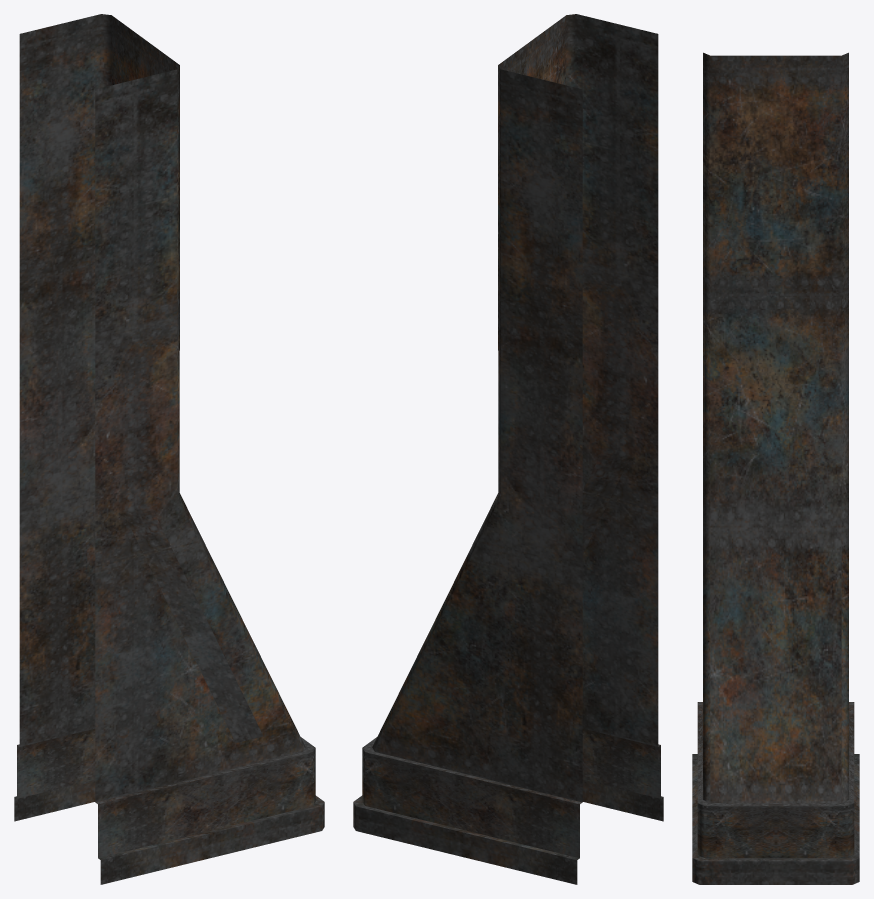
The model's file is Basement_Corridor_C_Pillar_C.glb.
3 views of the same model, side by side, from view 1: azimuth 30°, elevation 25°; view 2: azimuth 150°, elevation 25°; view 3: azimuth 270°, elevation 25° (orthographic). The views are drawn at different scales.
Visible parts, largest first — view 1: Basement_Corridor_C_Pillar_C; view 2: Basement_Corridor_C_Pillar_C; view 3: Basement_Corridor_C_Pillar_C.
Boxes of the visible parts, x1=… form: Basement_Corridor_C_Pillar_C: x1=14, y1=14, x2=324, y2=884; Basement_Corridor_C_Pillar_C: x1=353, y1=14, x2=663, y2=884; Basement_Corridor_C_Pillar_C: x1=692, y1=52, x2=859, y2=884.
Bounding box in the file's own units: 0.9032 × 3 × 0.595.
1 material, 1 textured.
